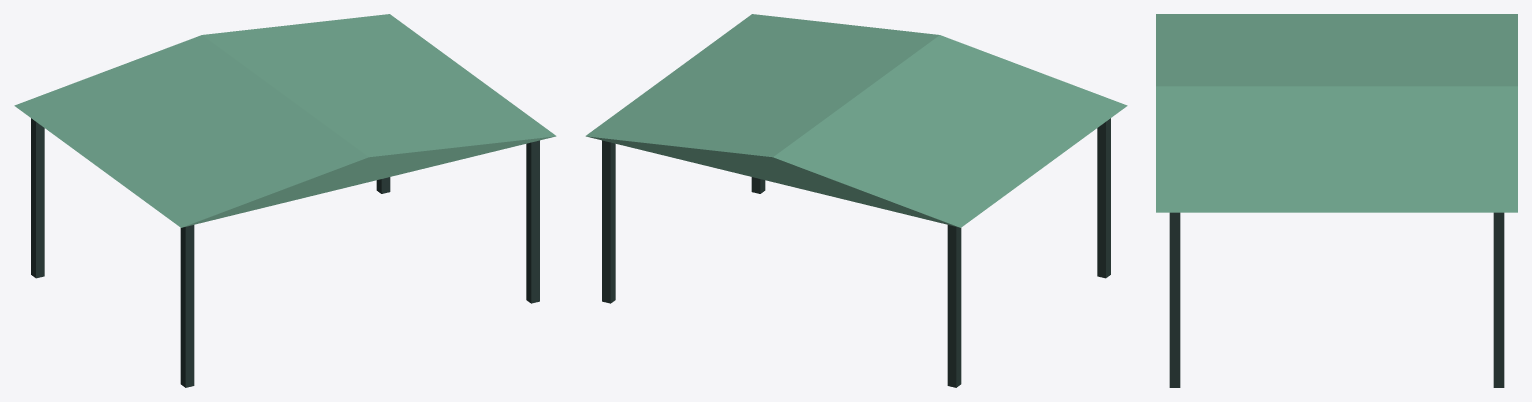
Rendered from LoadingCanopy.obj.
3 views of the same model, side by side, from view 1: azimuth 30°, elevation 25°; view 2: azimuth 150°, elevation 25°; view 3: azimuth 270°, elevation 25° (orthographic). The views are drawn at different scales.
Visible parts, largest first — view 1: LoadingCanopy; view 2: LoadingCanopy; view 3: LoadingCanopy.
Part boxes in pixels (x1,y1,x2,y2): LoadingCanopy: (14, 14, 556, 387); LoadingCanopy: (585, 14, 1127, 387); LoadingCanopy: (1156, 14, 1517, 387).
Bounding box in the file's own units: 8.7 × 4.25 × 6.7.
